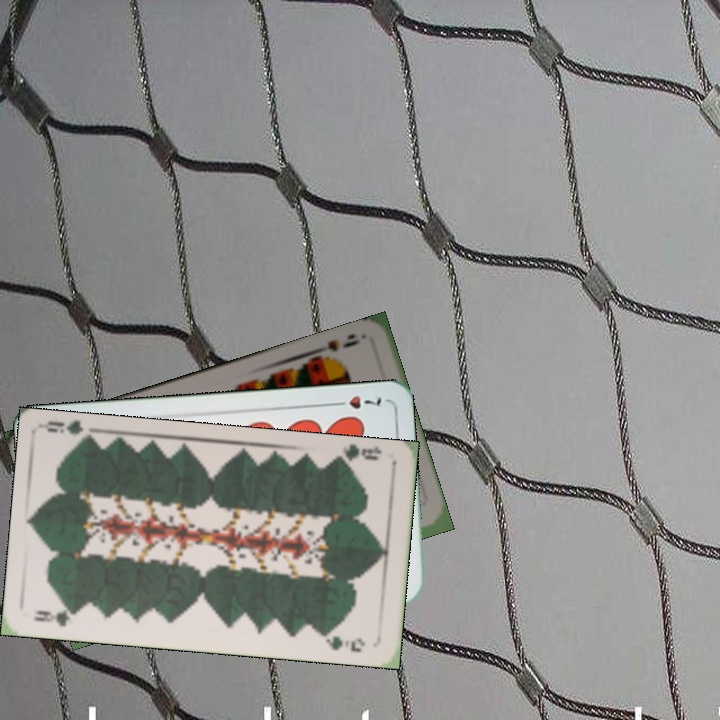G9: (331, 442, 384, 470), (29, 605, 83, 630)
H7: (328, 391, 384, 412)
S9: (308, 329, 366, 367)
